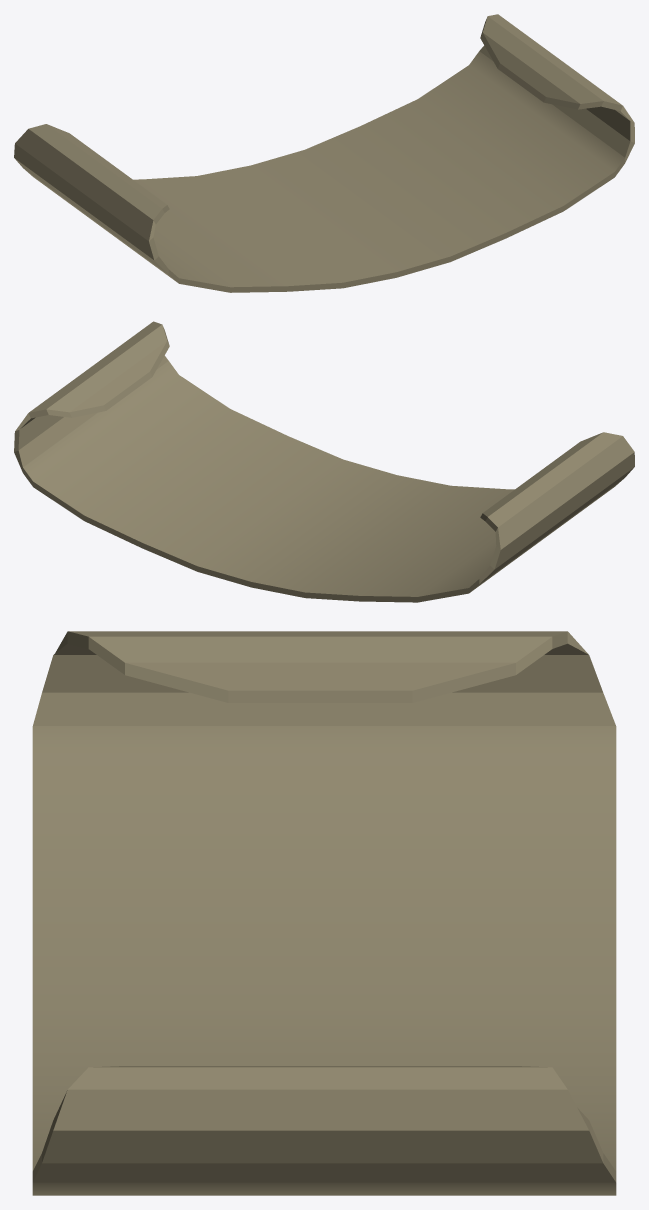
File: Mapa 1.fbx
3 views of the same model, one above another, from view 1: azimuth 30°, elevation 25°; view 2: azimuth 150°, elevation 25°; view 3: azimuth 270°, elevation 25° (orthographic). The views are drawn at different scales.
Visible parts, largest first — view 1: Mapa_2; view 2: Mapa_2; view 3: Mapa_2.
Part boxes in pixels (<box>): Mapa_2: <box>14,14,634,292</box>; Mapa_2: <box>14,321,634,602</box>; Mapa_2: <box>32,631,616,1195</box>.
Bounding box in the file's own units: 1.96 × 0.4337 × 1.02.
